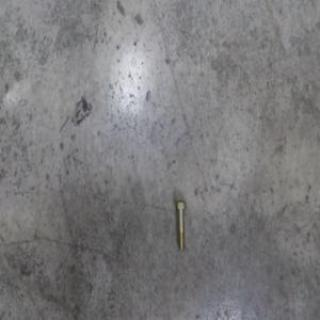Bolttrack_idkeyframe: (173, 197, 186, 250)
